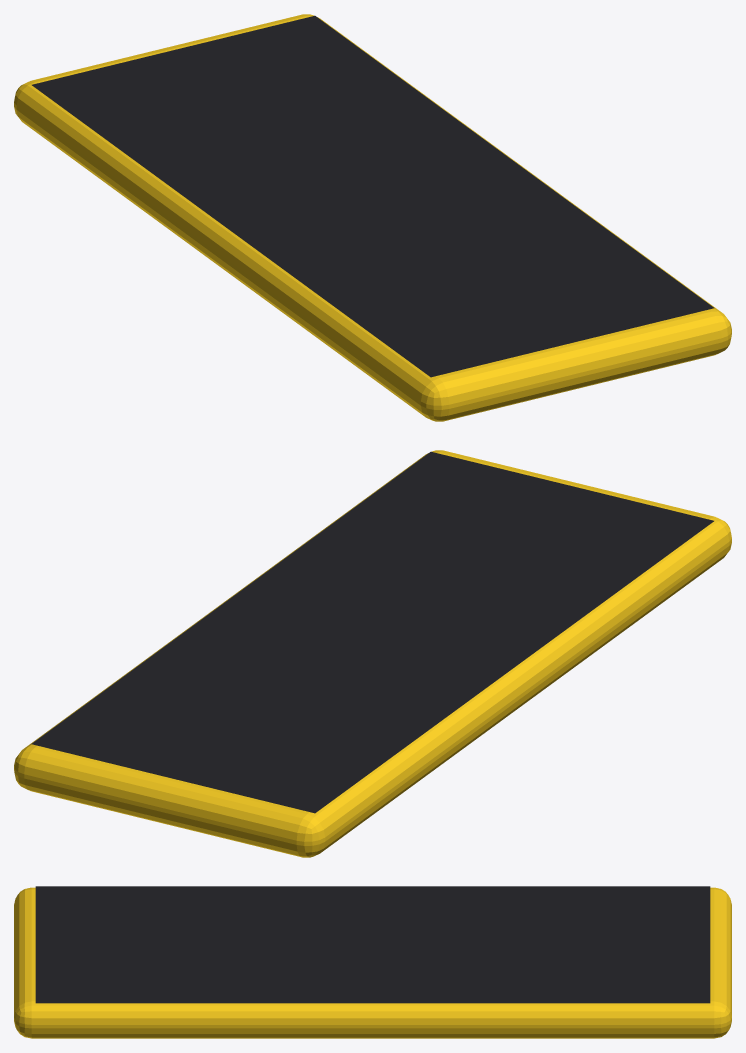
The model's file is google-pixel-model-377-mid-range-2026.glb.
3 renders of one model, top to bottom at view 1: azimuth 30°, elevation 25°; view 2: azimuth 150°, elevation 25°; view 3: azimuth 270°, elevation 25°, orthographic. The views are drawn at different scales.
Visible parts, largest first — view 1: Phone_Screen, Phone_Body; view 2: Phone_Screen, Phone_Body; view 3: Phone_Screen, Phone_Body.
Boxes of the visible parts, x1,y1,x2,y2 form: Phone_Screen: [32, 15, 714, 377]; Phone_Body: [14, 14, 731, 421]; Phone_Screen: [31, 451, 713, 813]; Phone_Body: [14, 450, 731, 857]; Phone_Screen: [35, 886, 710, 1003]; Phone_Body: [14, 887, 731, 1038].
Bounding box in the file's own units: 0.0707 × 0.0093 × 0.1687.
